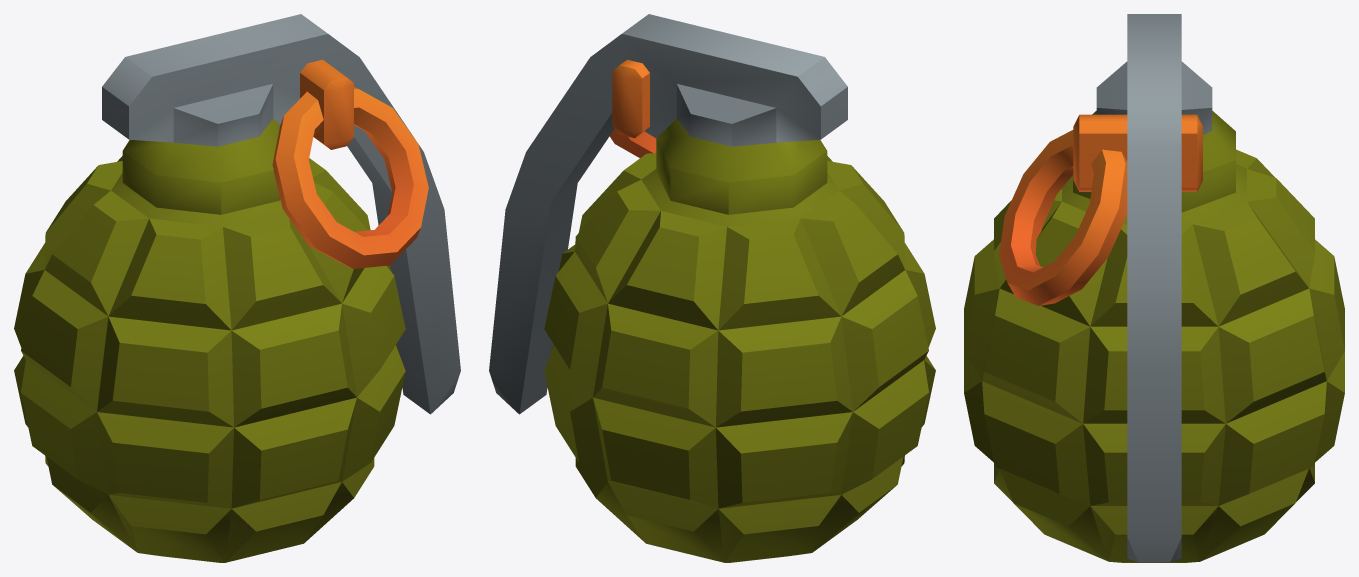
File: Grenade.obj
3 views of the same model, side by side, from view 1: azimuth 30°, elevation 25°; view 2: azimuth 150°, elevation 25°; view 3: azimuth 270°, elevation 25° (orthographic).
Visible parts, largest first — view 1: Grenade; view 2: Grenade; view 3: Grenade.
Boxes of the visible parts, x1,y1,x2,y2 form: Grenade: (14,14,460,562); Grenade: (489,14,935,562); Grenade: (964,14,1344,562).
Bounding box in the file's own units: 0.5037 × 0.575 × 0.4115.
1 material, 1 textured.
